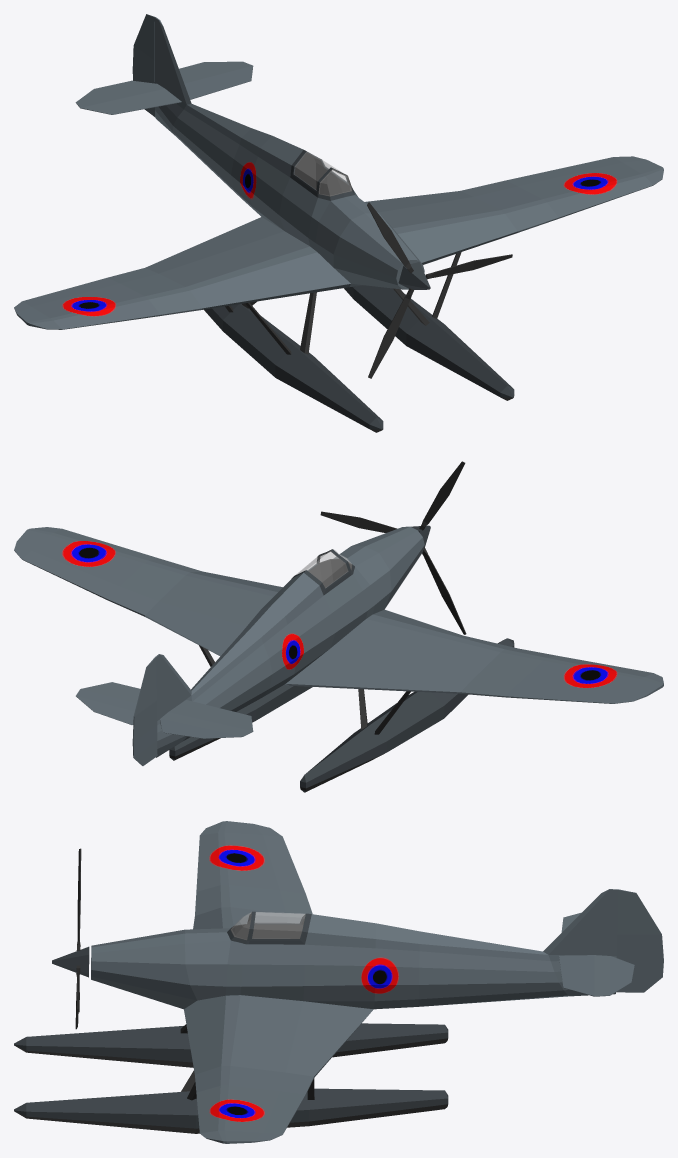
3 renders of one model, top to bottom at view 1: azimuth 30°, elevation 25°; view 2: azimuth 150°, elevation 25°; view 3: azimuth 270°, elevation 25°, orthographic. The views are drawn at different scales.
Parts seen in each view (by area): view 1: Body.003, propeller.003, L_ailerone.003, Rudder.003, R_ailerone.003, Circle.002, R_elevator.003; view 2: Body.003, L_ailerone.003, R_ailerone.003, propeller.003, Rudder.003, Circle.002, R_elevator.003, L_elevator.003; view 3: Body.003, Rudder.003, R_ailerone.003, L_ailerone.003, Circle.002, propeller.003, L_elevator.003.
Part boxes in pixels (box(x1,y1,x2,y2)): Body.003: box(14, 17, 663, 432); propeller.003: box(367, 202, 512, 378); L_ailerone.003: box(460, 157, 622, 196); Rudder.003: box(132, 14, 155, 116); R_ailerone.003: box(22, 268, 158, 306); Circle.002: box(292, 151, 348, 192); R_elevator.003: box(76, 80, 157, 102); Body.003: box(14, 526, 663, 792); L_ailerone.003: box(22, 551, 158, 616); R_ailerone.003: box(460, 678, 622, 703); propeller.003: box(320, 461, 466, 634); Rudder.003: box(132, 657, 157, 765); Circle.002: box(294, 550, 349, 590); R_elevator.003: box(160, 718, 242, 738); L_elevator.003: box(76, 696, 134, 724); Body.003: box(14, 821, 617, 1143); Rudder.003: box(616, 889, 663, 992); R_ailerone.003: box(263, 835, 312, 915); L_ailerone.003: box(263, 1072, 313, 1134); Circle.002: box(250, 911, 307, 940); propeller.003: box(52, 848, 89, 1029); L_elevator.003: box(610, 956, 634, 995).
Size of the model in its own units: 1627 by 542 by 1394.
